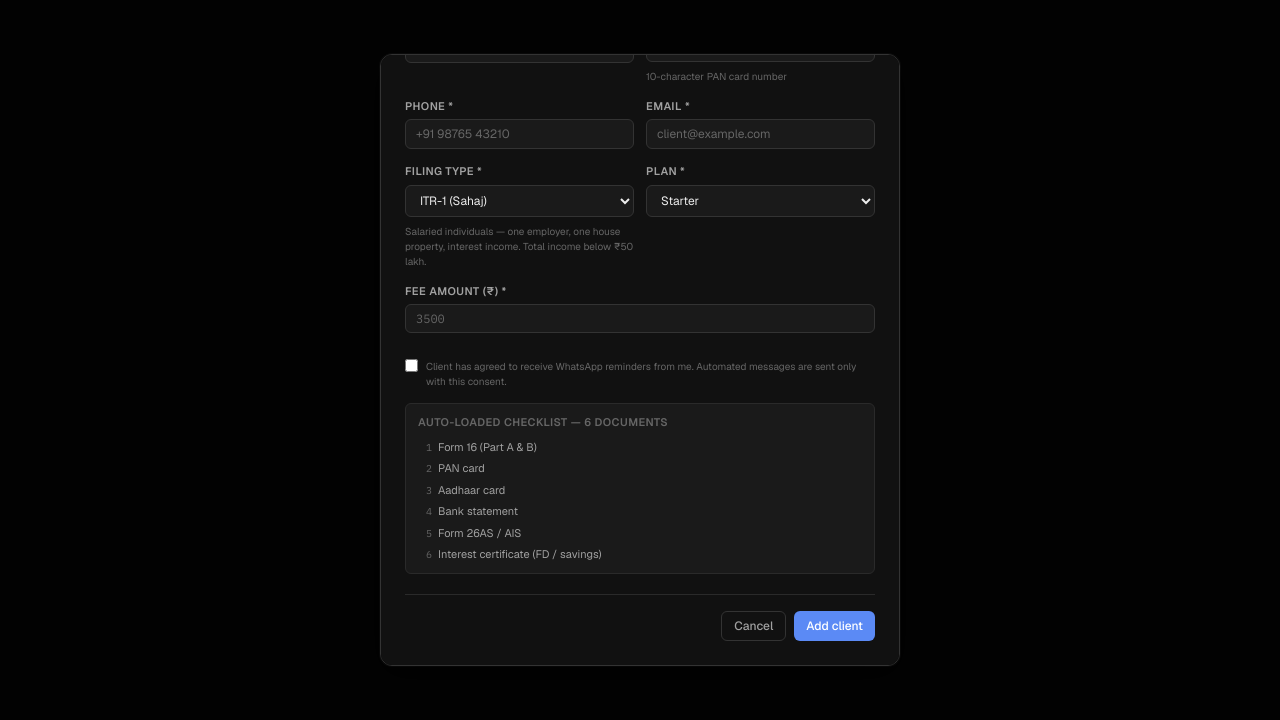
Scenario: ClientFormModal — validation › all 5 required fields show errors when form is empty
(page scrolled)
Click the button "Add client" at point(835, 626), box left=794, top=610, right=875, bottom=640
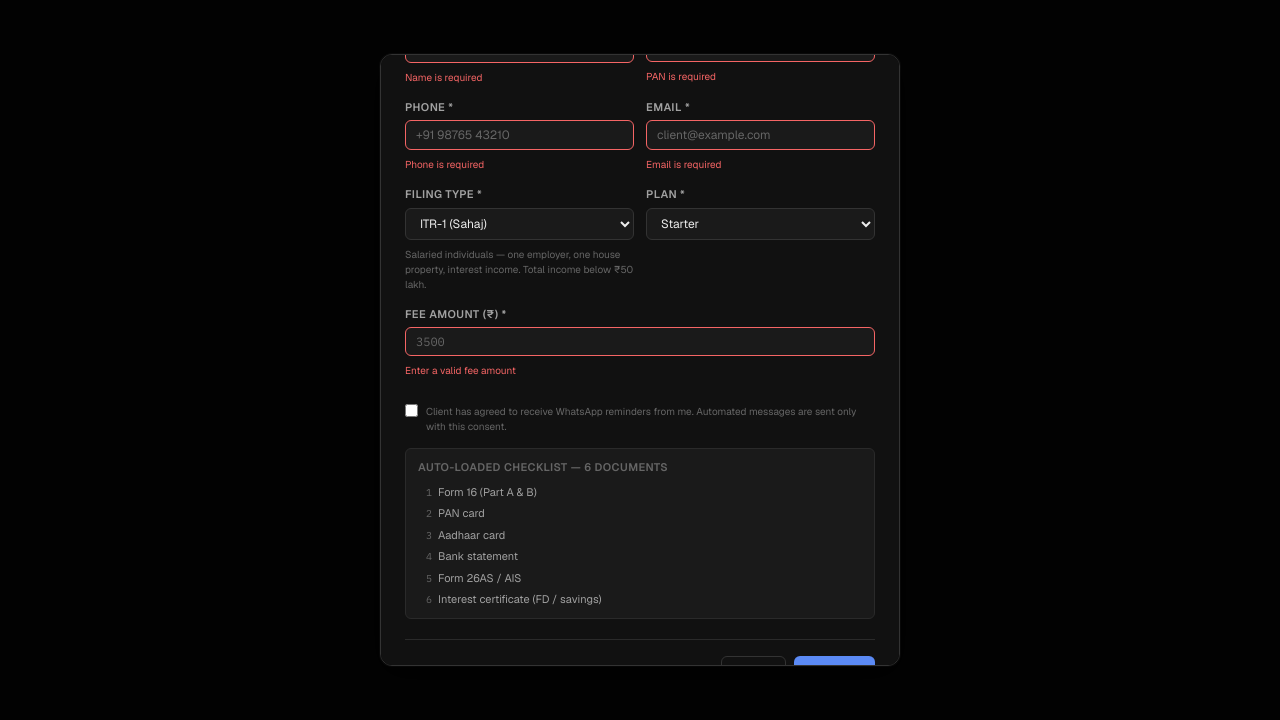
Check: the text "Name is required" is shown, box left=405, top=70, right=482, bottom=84
Check: the text "PAN is required" is shown, box left=646, top=70, right=716, bottom=82
Check: the text "Phone is required" is shown, box left=405, top=158, right=484, bottom=171
